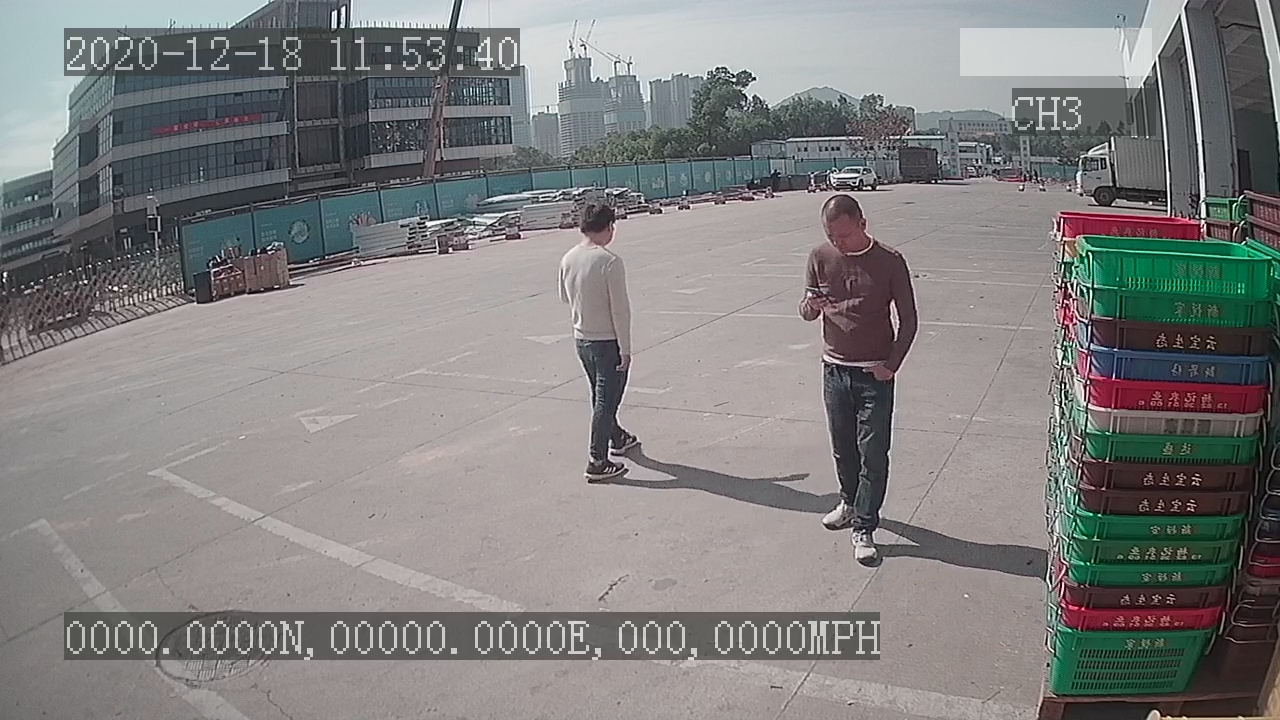person: (792, 190, 926, 576), (551, 199, 651, 490)
